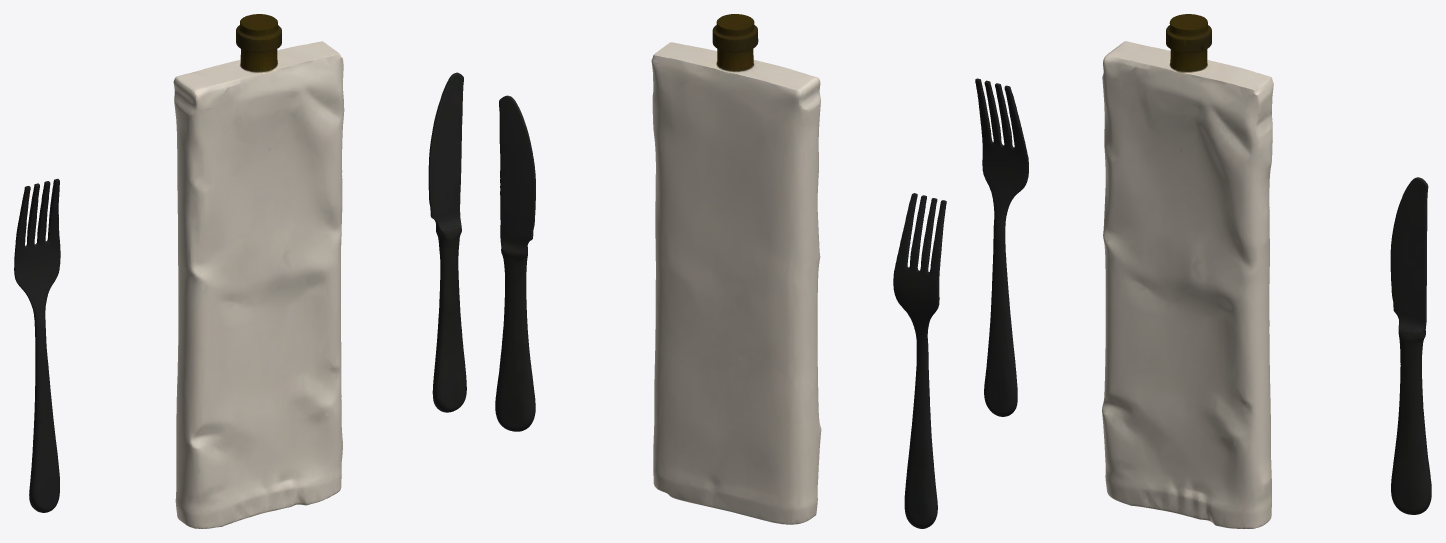
Rendered from tablesetting.glb.
The picture shows the model from 3 angles, left to right: view 1: azimuth 30°, elevation 25°; view 2: azimuth 150°, elevation 25°; view 3: azimuth 330°, elevation 25°; orthographic projection.
Parts seen in each view (by area): view 1: model; view 2: model; view 3: model.
Part boxes in pixels (bbox=[...]): model: bbox=[14, 14, 466, 528]; model: bbox=[495, 14, 946, 528]; model: bbox=[975, 14, 1431, 528].
Bounding box in the file's own units: 1.66 × 1.72 × 0.2153.
1 material, 1 textured.
